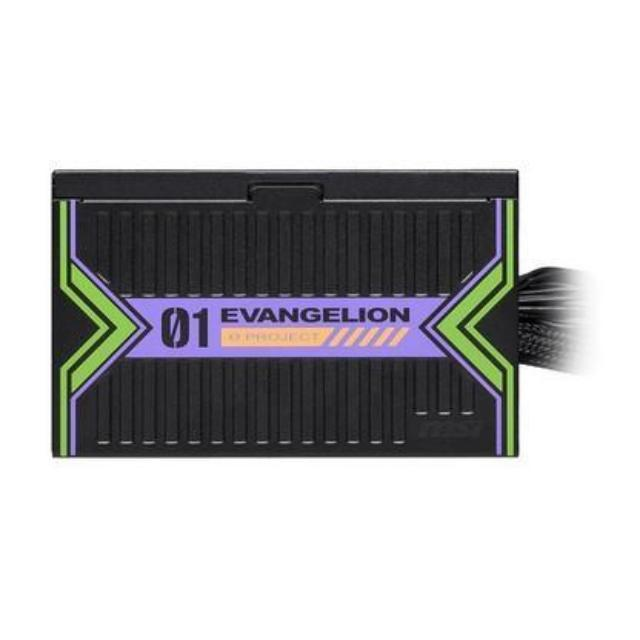PSU: (47, 152, 533, 480)
